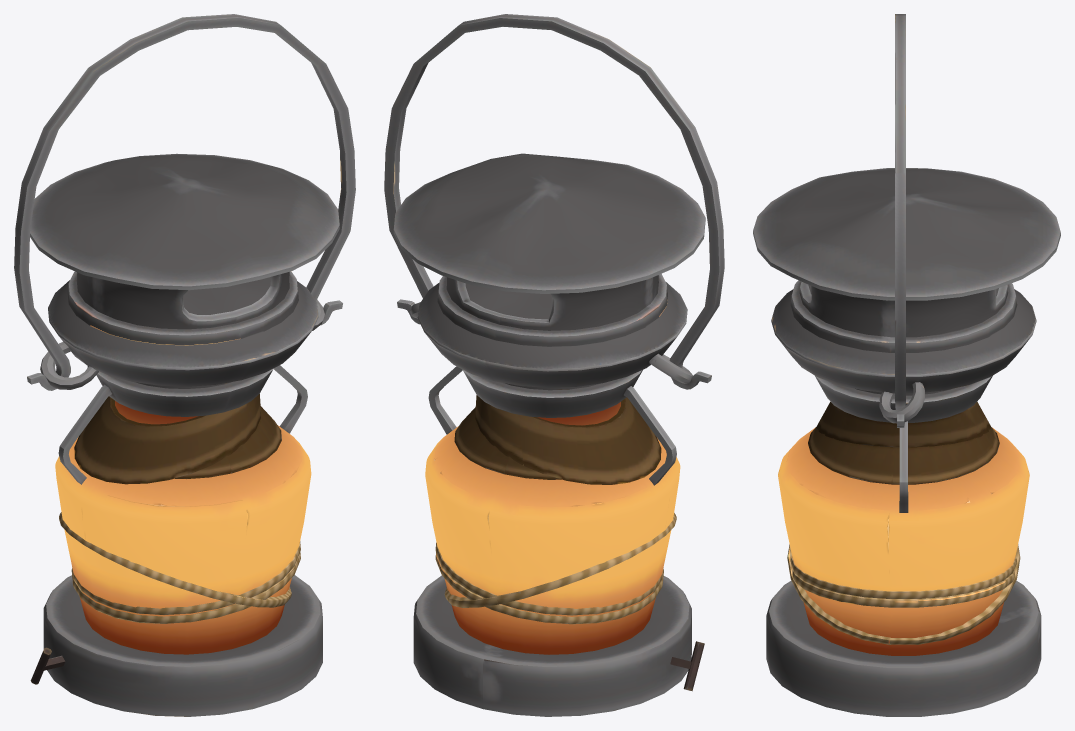
File: SM_Lantern.glb
3 renders of one model, left to right at view 1: azimuth 30°, elevation 25°; view 2: azimuth 150°, elevation 25°; view 3: azimuth 270°, elevation 25°, orthographic.
Visible parts, largest first — view 1: SM_Lantern; view 2: SM_Lantern; view 3: SM_Lantern.
Part boxes in pixels (<box>): SM_Lantern: <box>14,14,355,716</box>; SM_Lantern: <box>384,14,724,716</box>; SM_Lantern: <box>753,14,1060,716</box>.
Bounding box in the file's own units: 0.1974 × 0.36 × 0.1596.
1 material, 1 textured.
